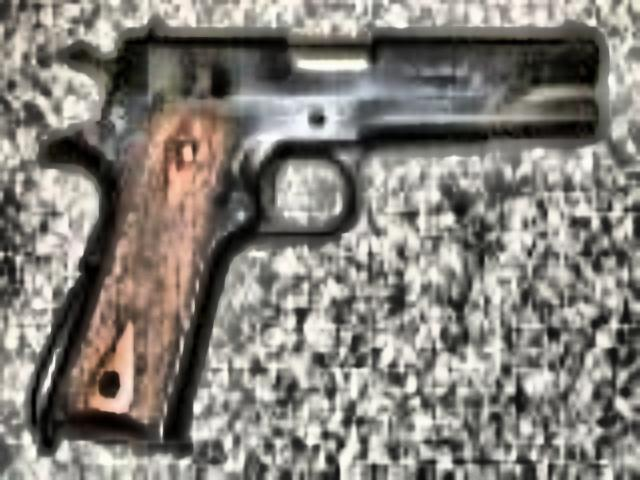pistol: (16, 12, 600, 440)
